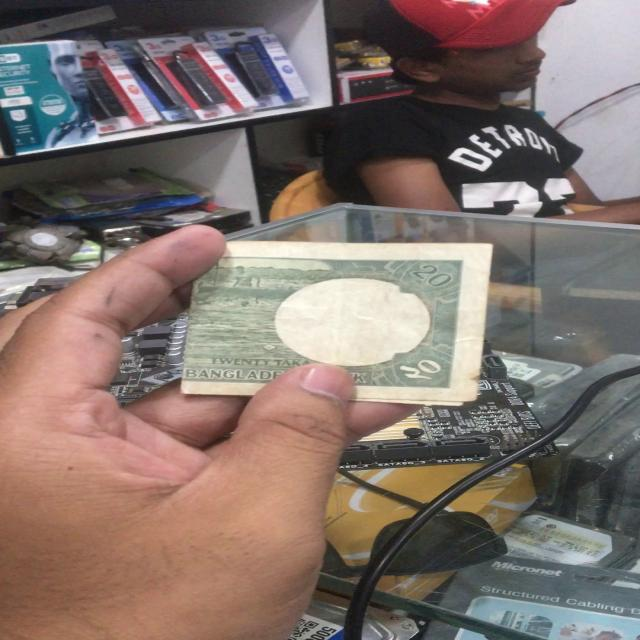Taka: (202, 245, 488, 408)
